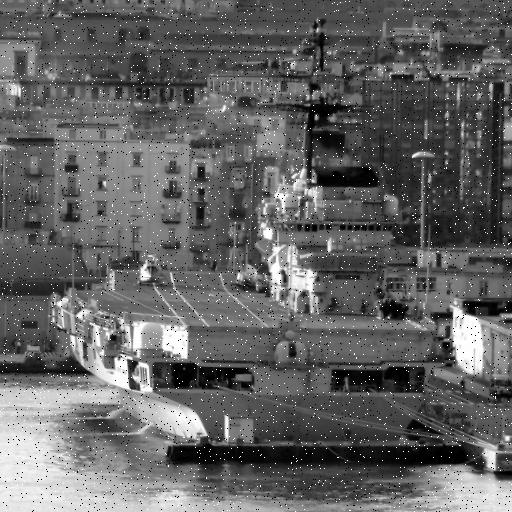Portanaves: (49, 12, 442, 442)
